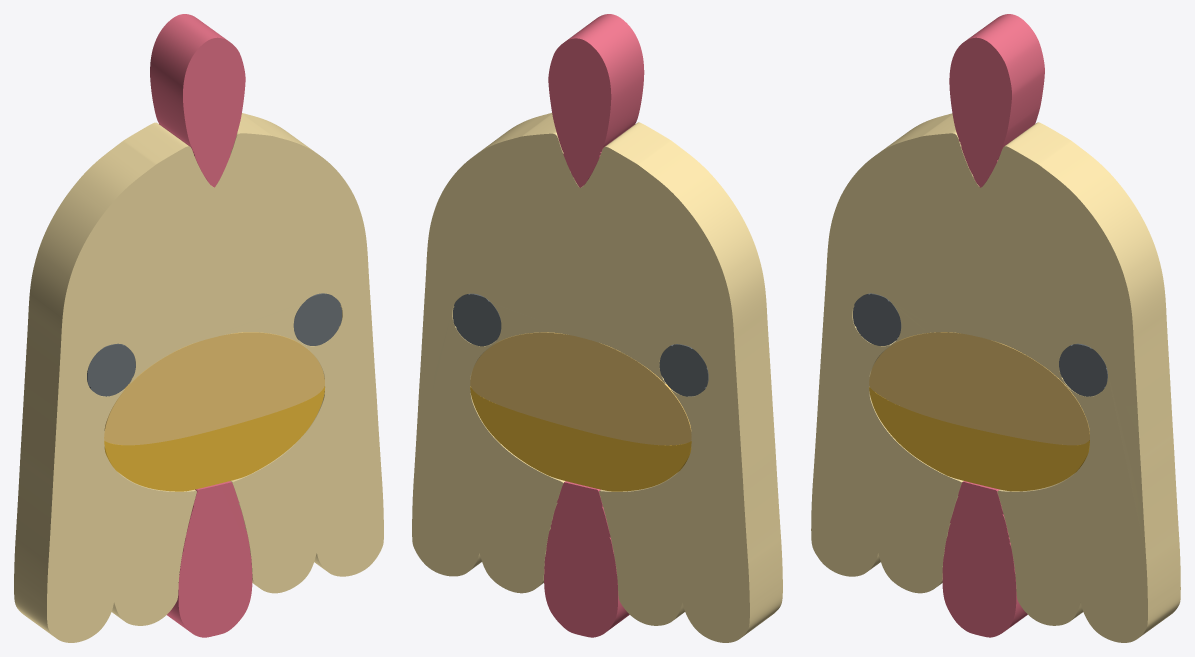
The model's file is galinhaDAE.dae.
3 views of the same model, side by side, from view 1: azimuth 30°, elevation 25°; view 2: azimuth 150°, elevation 25°; view 3: azimuth 330°, elevation 25° (orthographic).
Visible parts, largest first — view 1: galinha; view 2: galinha; view 3: galinha.
Boxes of the visible parts, x1,y1,x2,y2 form: galinha: (14, 14, 383, 642); galinha: (412, 14, 782, 642); galinha: (811, 14, 1180, 642).
Size of the model in its own units: 59.12 by 10.45 by 100.
